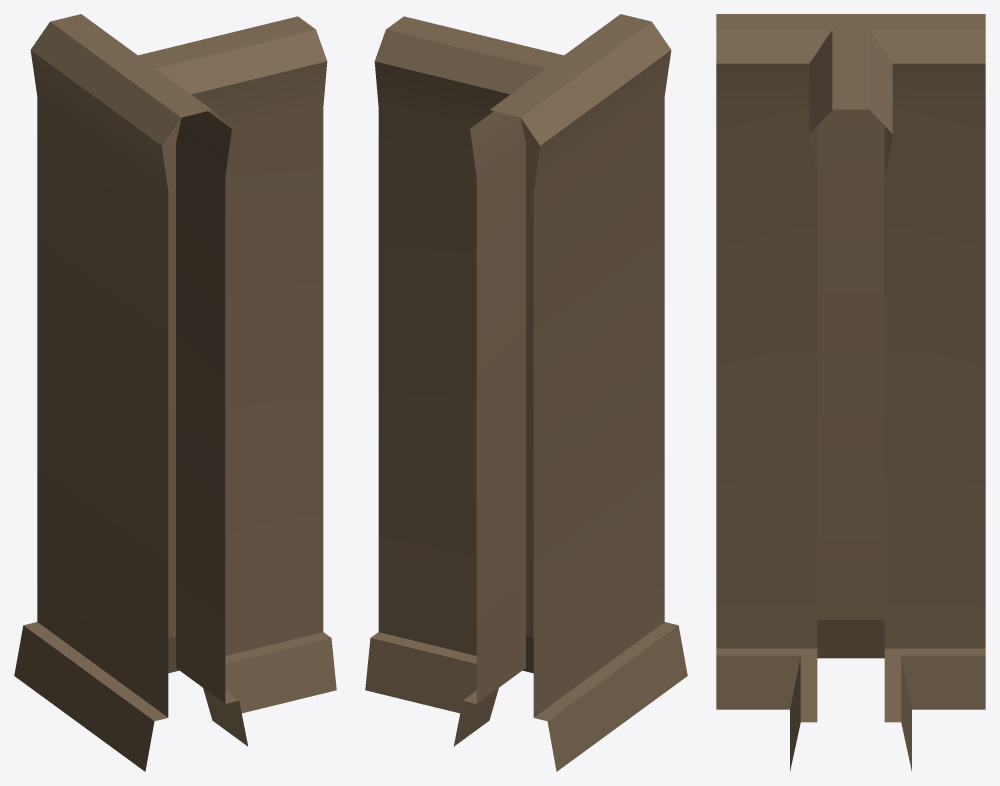
File: wall_segment_T.FBX
3 renders of one model, left to right at view 1: azimuth 30°, elevation 25°; view 2: azimuth 150°, elevation 25°; view 3: azimuth 270°, elevation 25°, orthographic. The views are drawn at different scales.
Visible parts, largest first — view 1: wall_segment_T; view 2: wall_segment_T; view 3: wall_segment_T.
Boxes of the visible parts, x1,y1,x2,y2 form: wall_segment_T: [14, 14, 336, 771]; wall_segment_T: [365, 14, 687, 771]; wall_segment_T: [716, 14, 985, 771].
Size of the model in its own units: 200 by 543 by 200.
